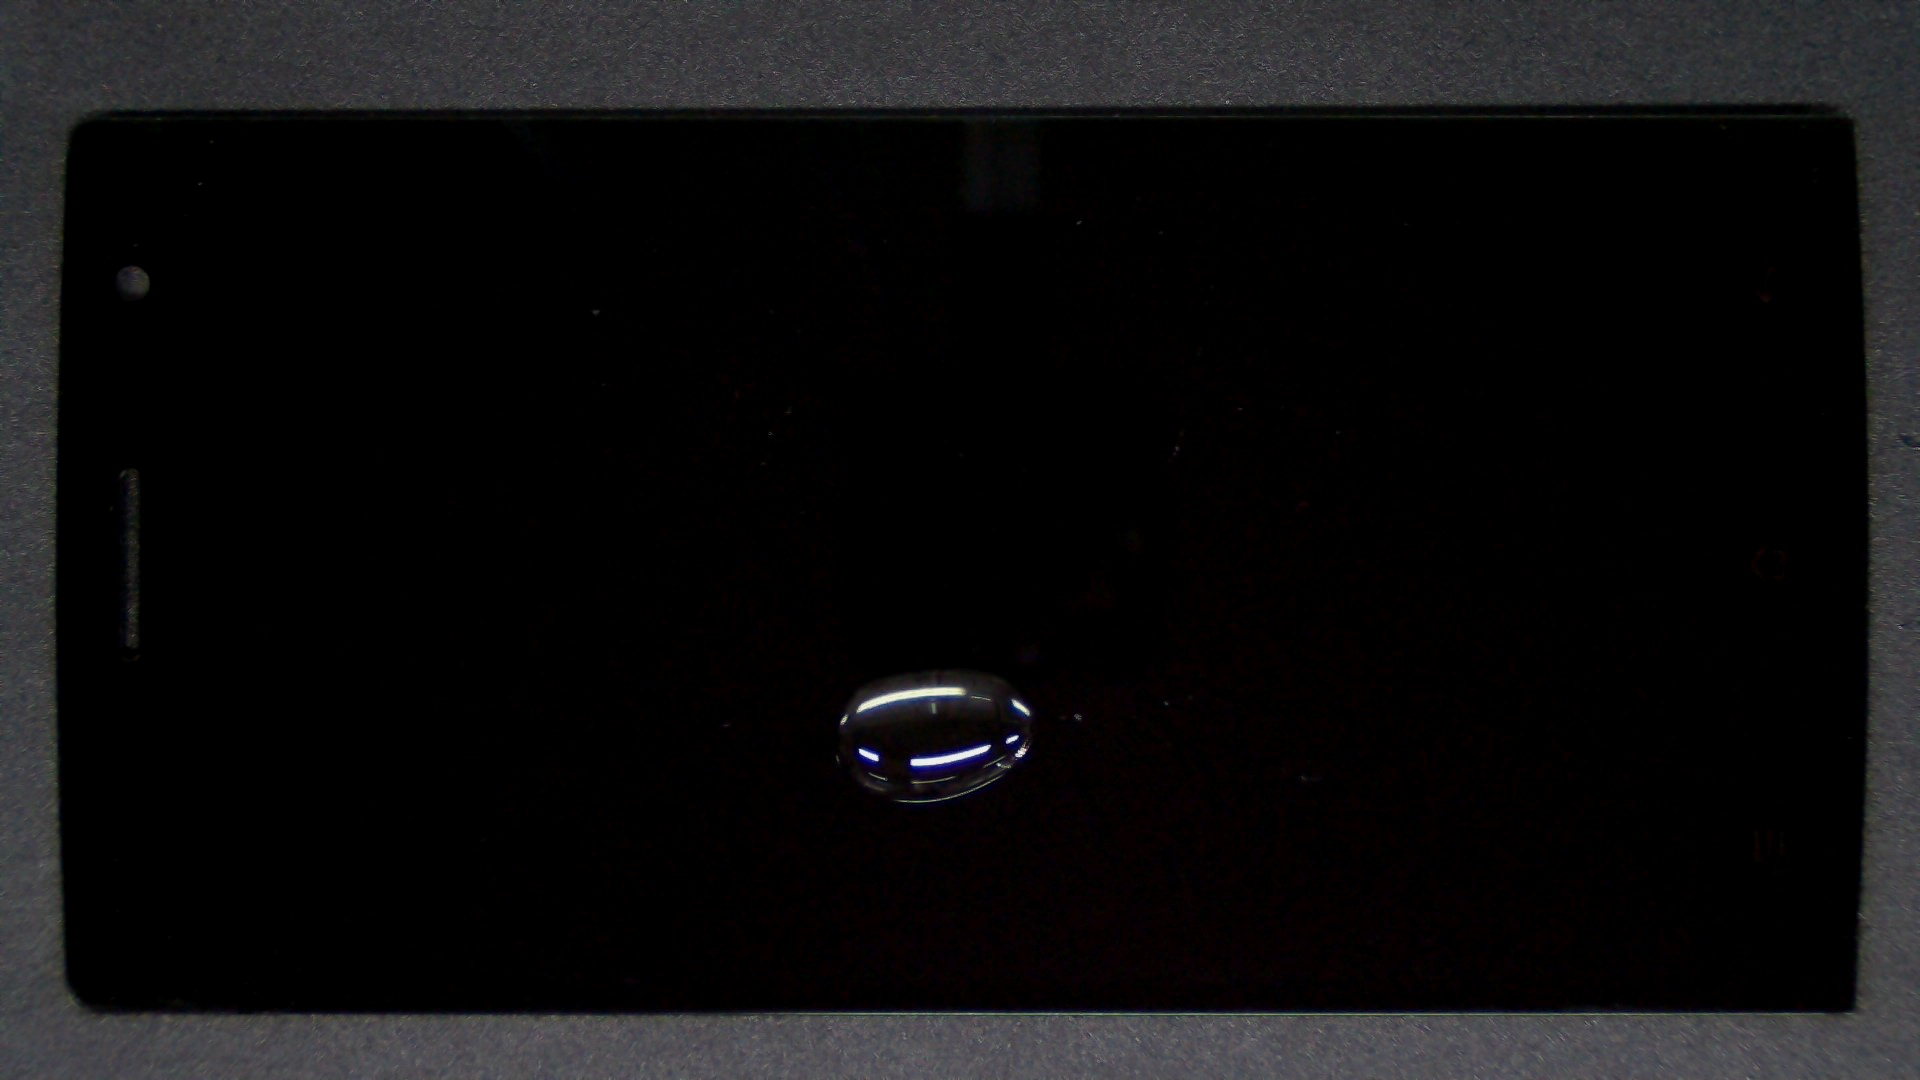oil: (471, 334, 1410, 1004)
